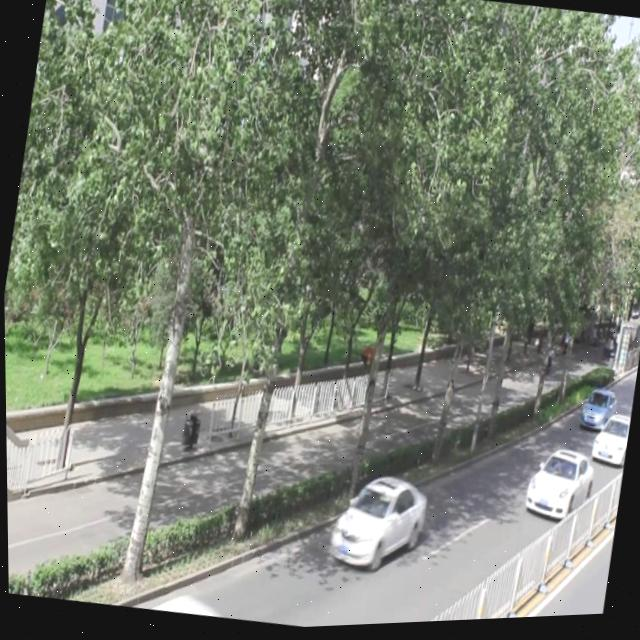car: (324, 470, 429, 579), (518, 445, 595, 530), (586, 415, 630, 471), (575, 390, 617, 438)
truck: (94, 580, 228, 624)
